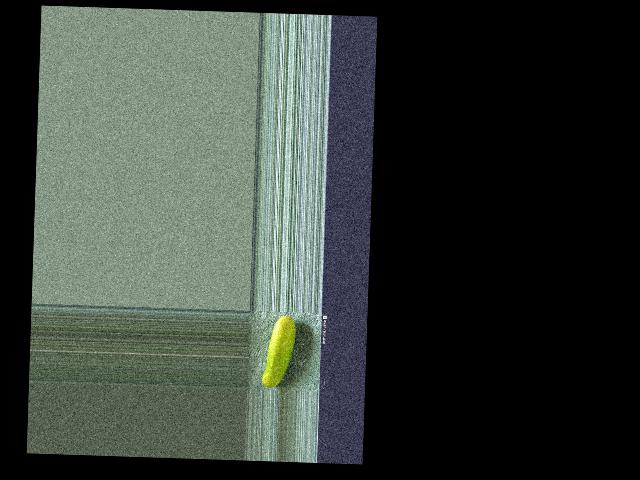cucumber: (261, 315, 296, 388)
